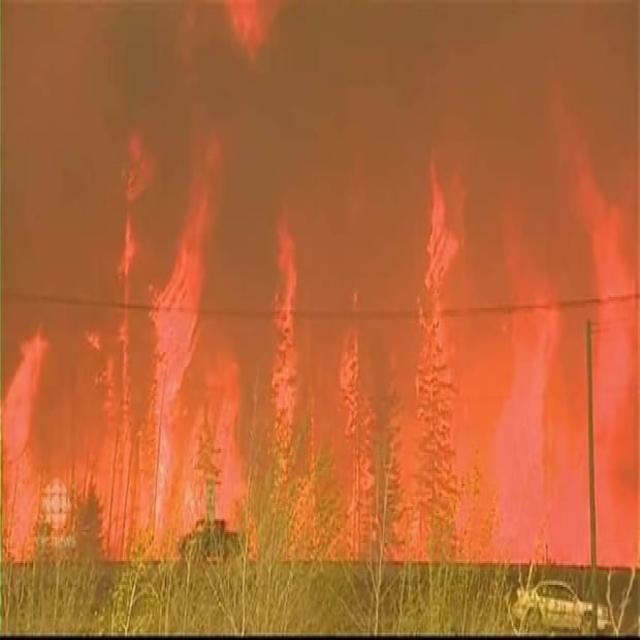Fire: (546, 74, 640, 593), (143, 125, 232, 566), (478, 216, 568, 581), (66, 126, 138, 574), (261, 187, 323, 566), (327, 276, 383, 562), (0, 322, 55, 574), (414, 148, 468, 366)
